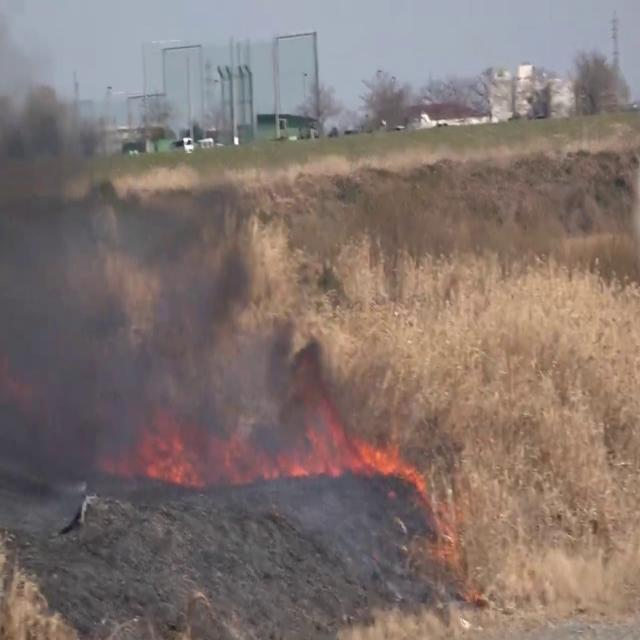Fire: (239, 403, 424, 489)
Smoke: (0, 23, 268, 485)
